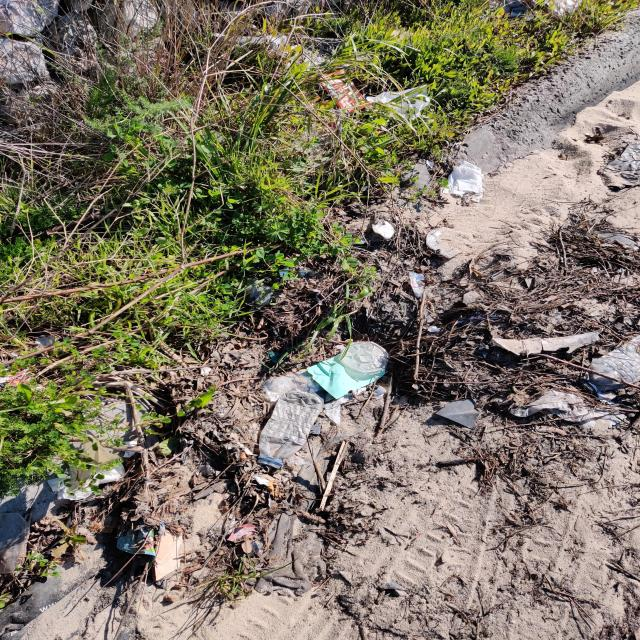litter: (257, 391, 321, 469), (307, 354, 387, 399), (584, 336, 640, 394), (263, 370, 324, 401), (341, 341, 389, 376)
